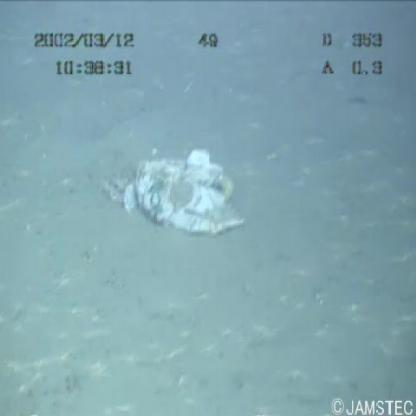Rác: (88, 144, 249, 248)
